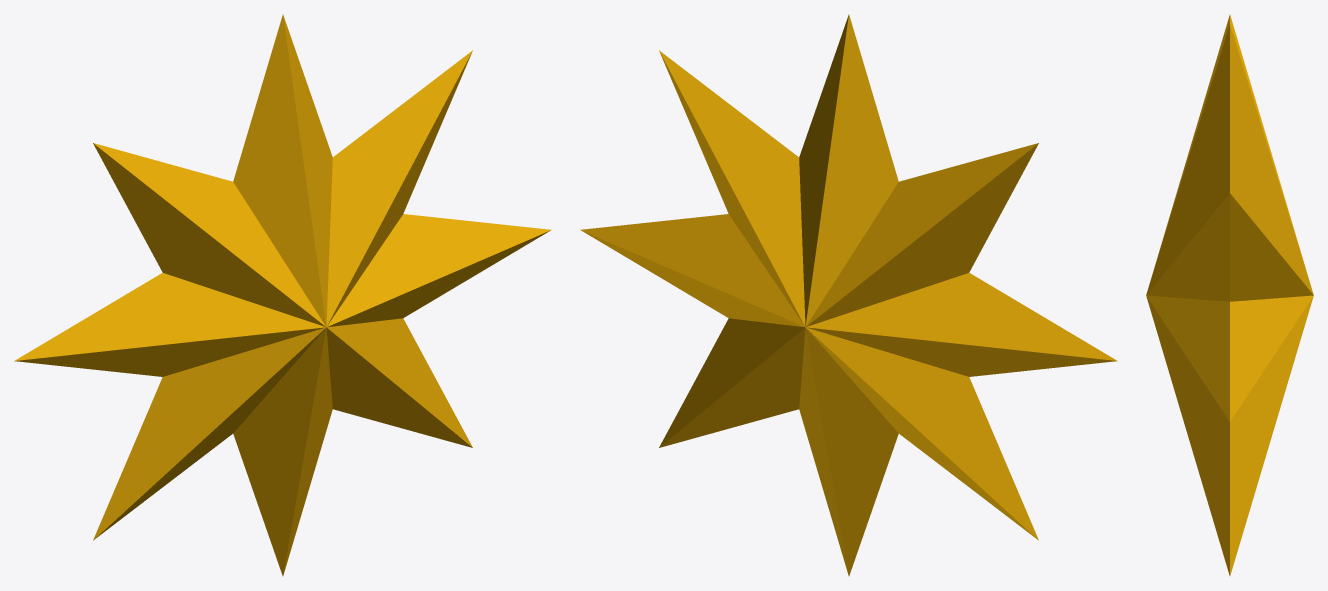
File: star_8.fbx
3 views of the same model, side by side, from view 1: azimuth 30°, elevation 25°; view 2: azimuth 150°, elevation 25°; view 3: azimuth 270°, elevation 25° (orthographic). The views are drawn at different scales.
Parts seen in each view (by area): view 1: Circle; view 2: Circle; view 3: Circle.
Boxes of the visible parts, box(x1,y1,x2,y2) form: Circle: box(14, 14, 551, 576); Circle: box(580, 14, 1117, 576); Circle: box(1146, 15, 1313, 575).
Bounding box in the file's own units: 200 × 200 × 56.
